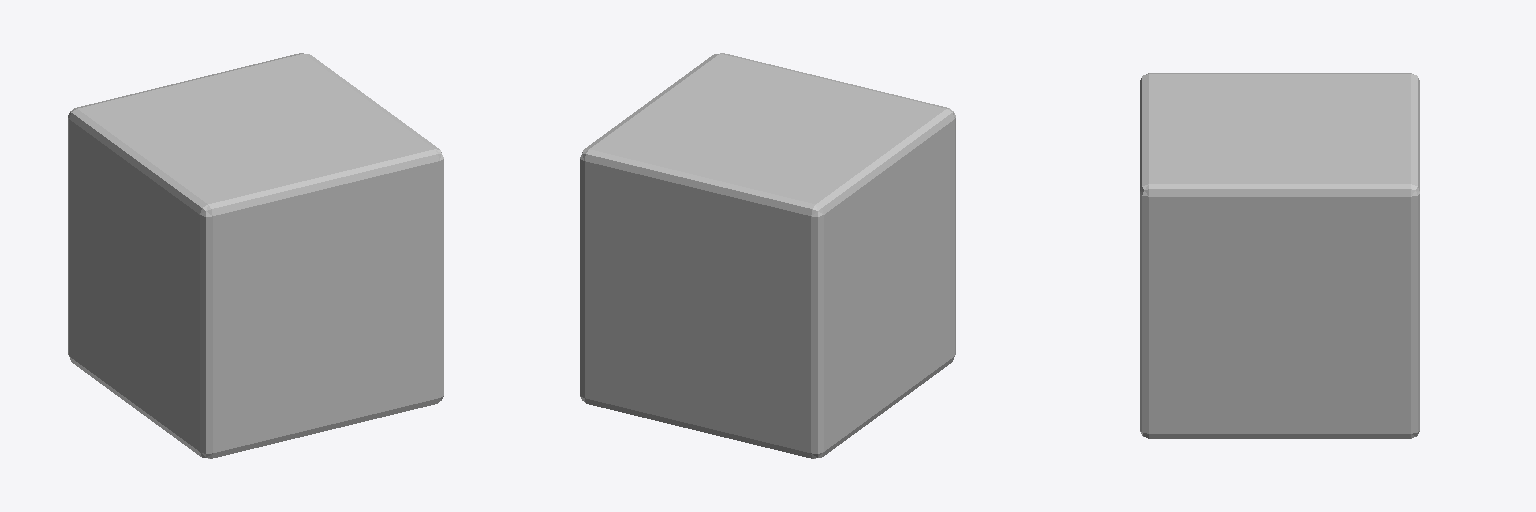
Rendered from roundedcube.obj.
3 renders of one model, left to right at view 1: azimuth 30°, elevation 25°; view 2: azimuth 150°, elevation 25°; view 3: azimuth 270°, elevation 25°, orthographic.
Visible parts, largest first — view 1: Cube_Cube.001; view 2: Cube_Cube.001; view 3: Cube_Cube.001.
Part boxes in pixels (bbox=[...]): Cube_Cube.001: bbox=[68, 53, 443, 458]; Cube_Cube.001: bbox=[580, 53, 955, 458]; Cube_Cube.001: bbox=[1140, 73, 1419, 438].
Size of the model in its own units: 2 by 2 by 2.